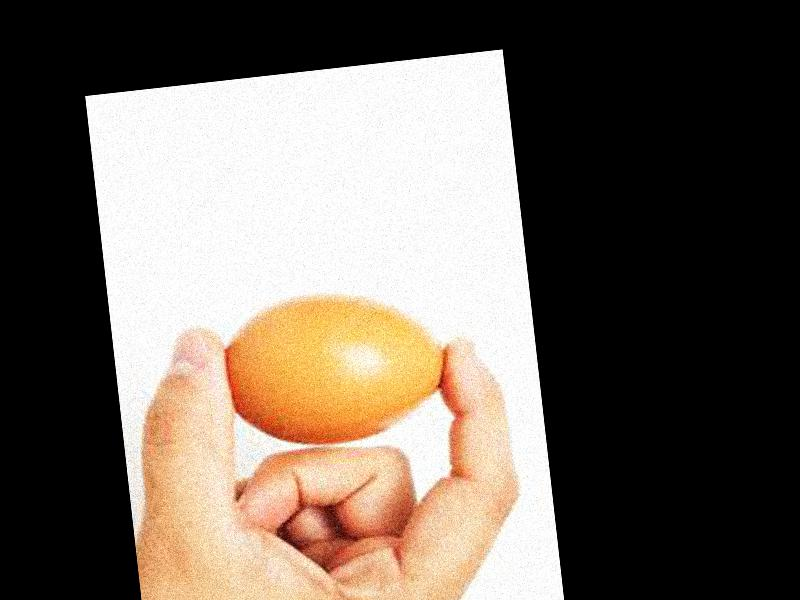Eggs: (218, 279, 457, 455)
